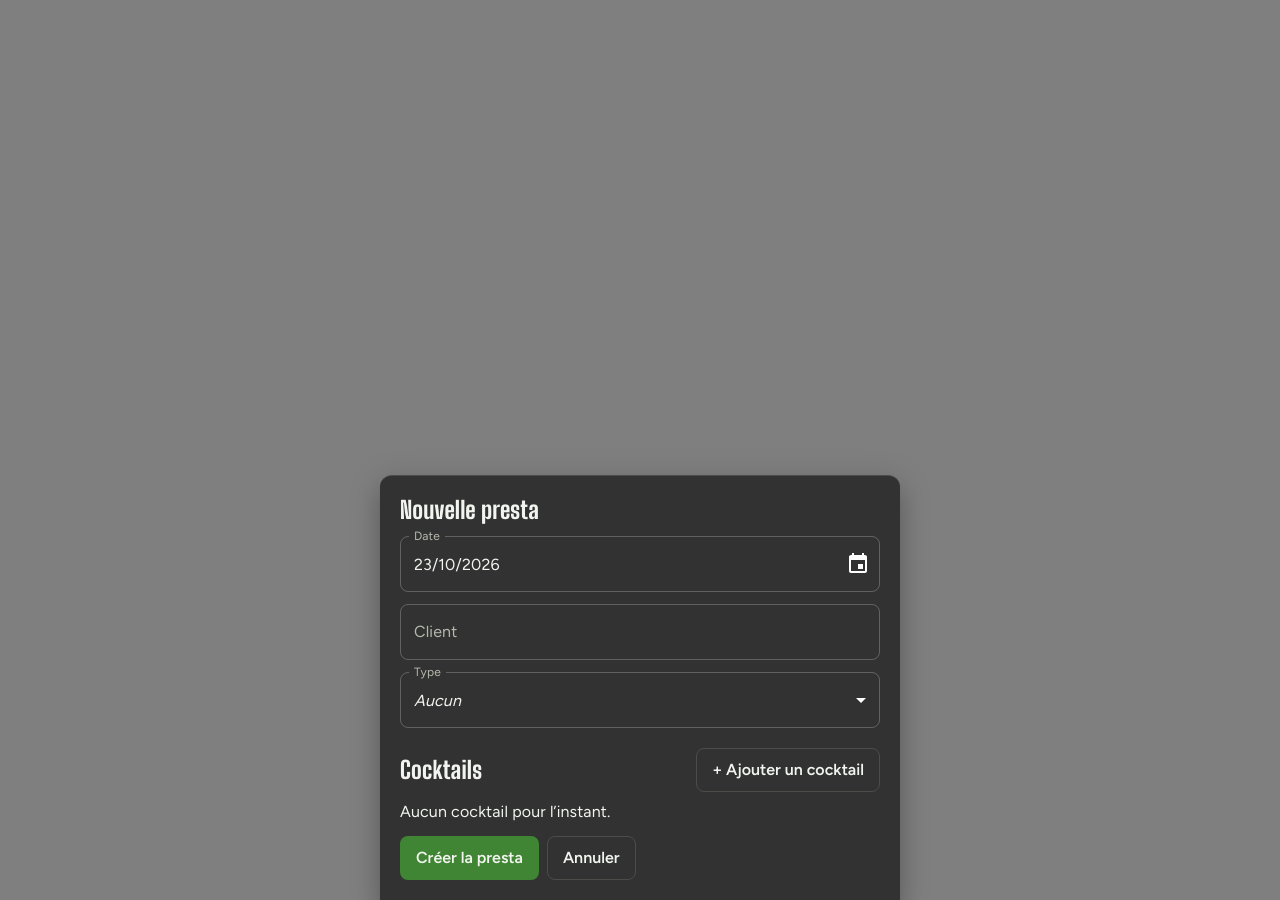
Test: EcranNouvellePresta › titre la feuille d’ajout et filtre avec ou sans alcool, sans perdre les cases cochées
This screenshot has width=1280, height=900.
Click the button "+ Ajouter un cocktail" at (788, 770), box [696,748,880,792]
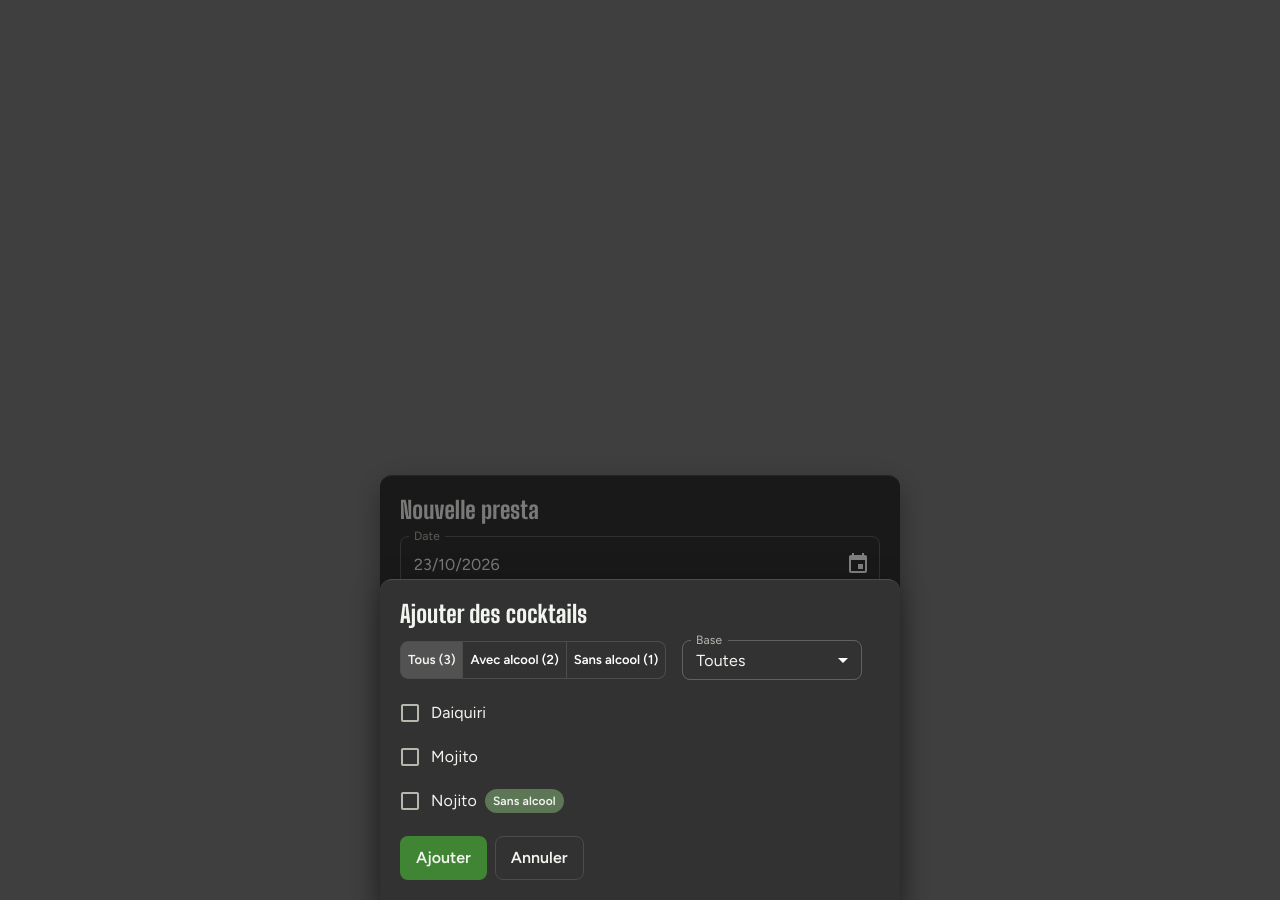
Check: the heading "Ajouter des cocktails" is shown, box [400,599,587,628]
Click the checkbox labelled "Mojito" at (438, 757), box [398,745,478,769]
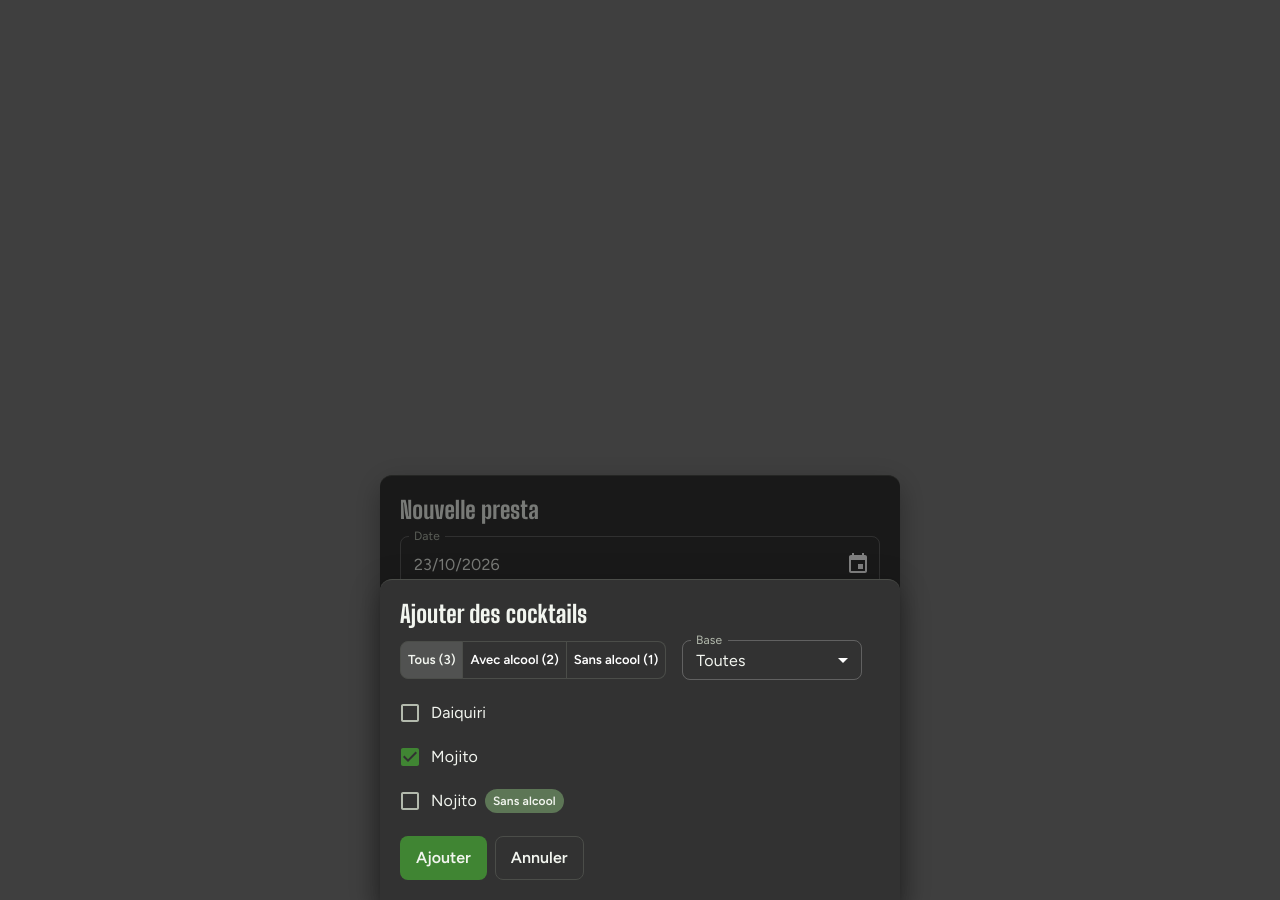
Click the button "Sans alcool (1)" at (616, 660), box [566,641,666,679]
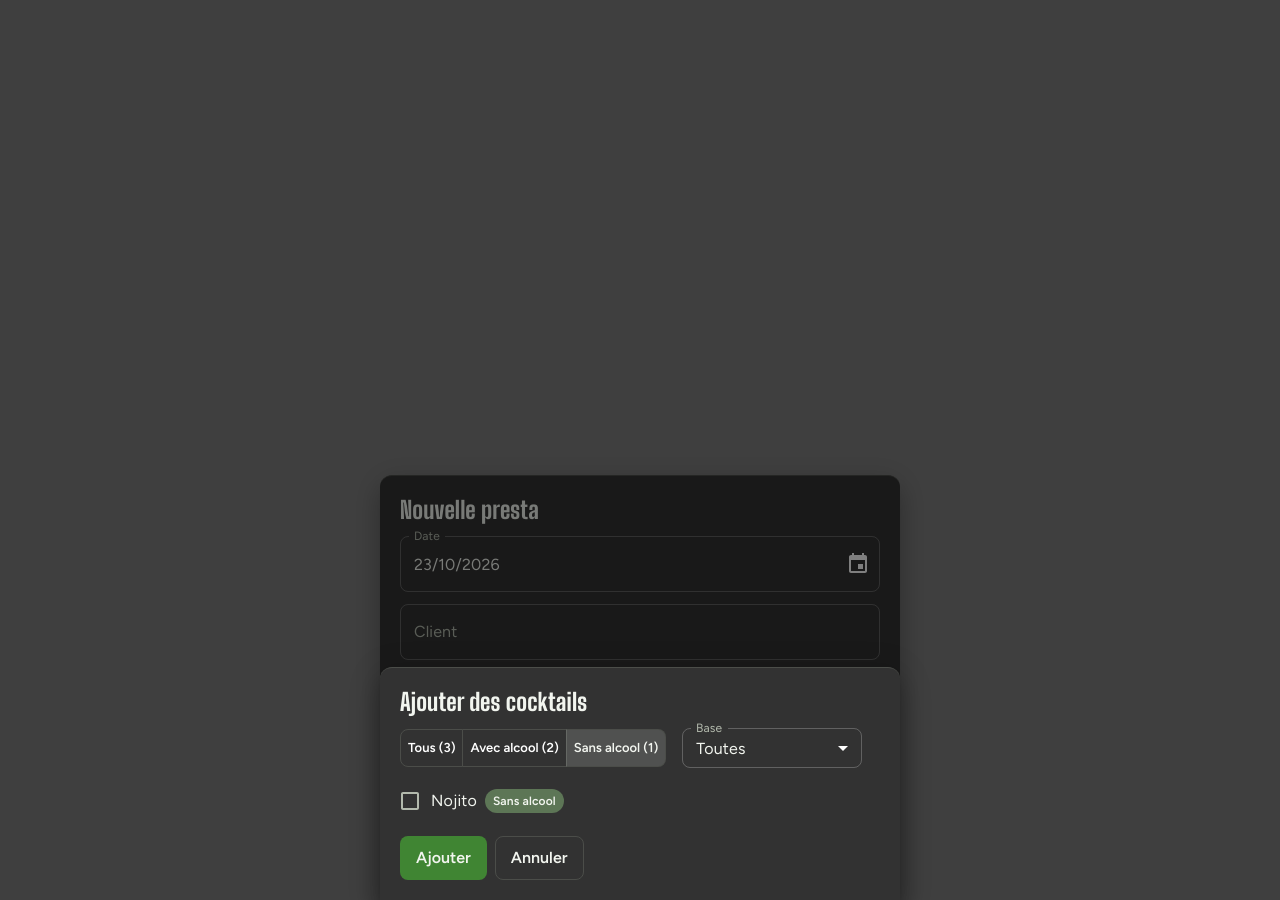
Click the button "Tous (3)" at (432, 748), box [400,729,464,767]
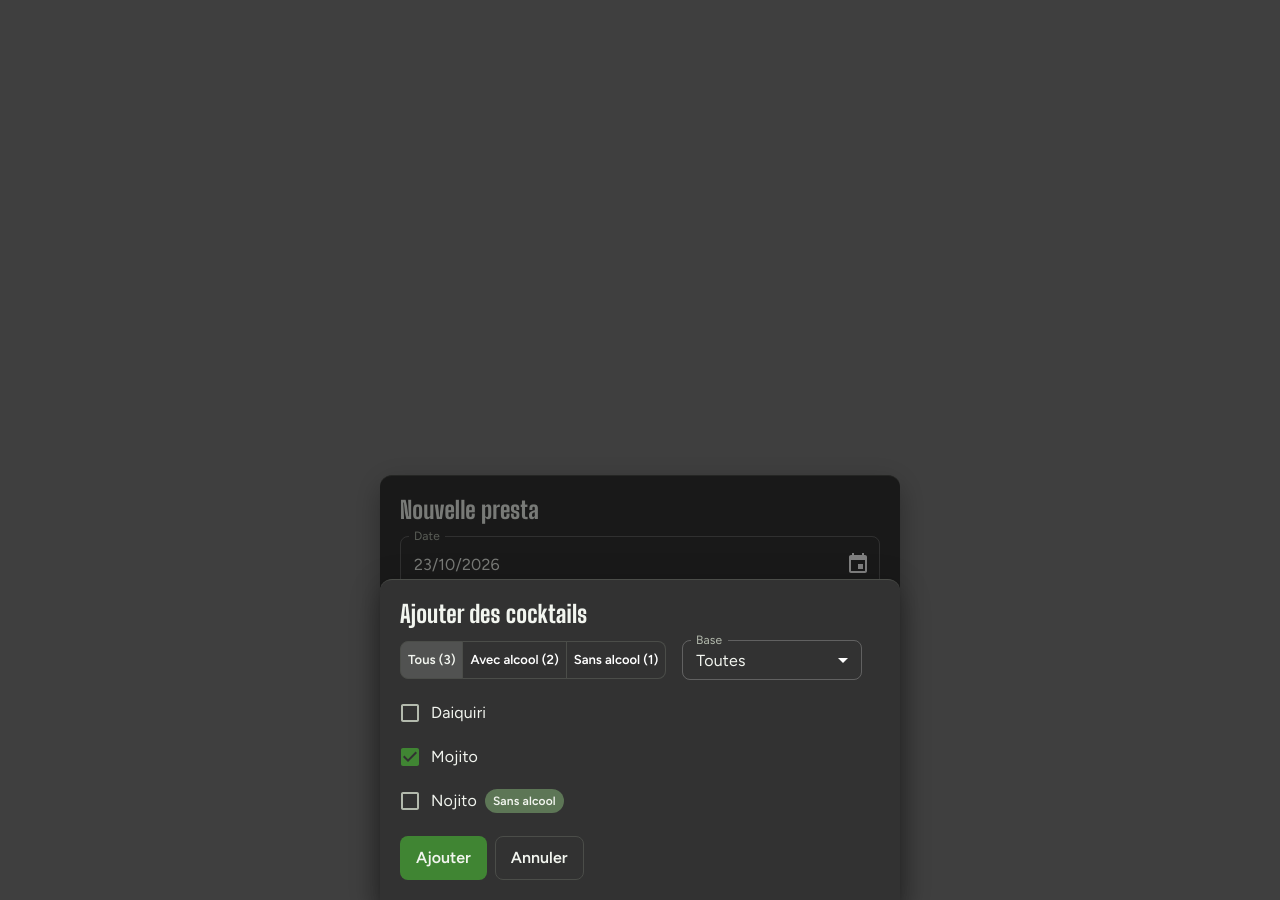
Check: the checkbox labelled "Mojito" is checked, box [398,745,478,769]
